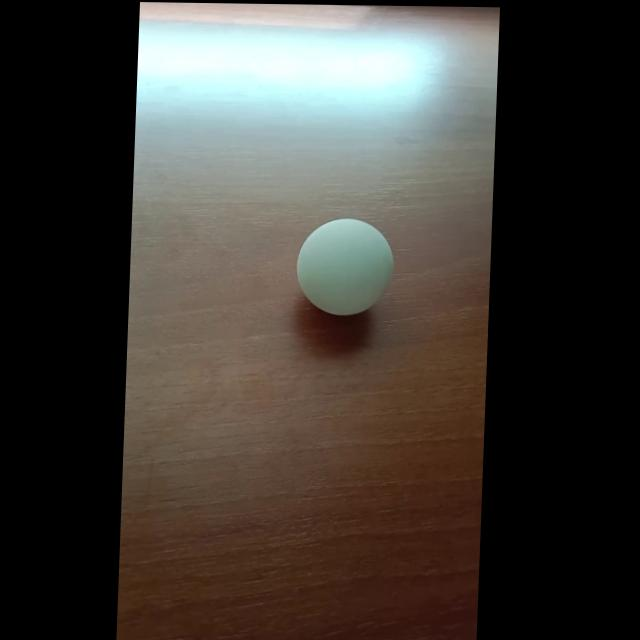white ball: (293, 217, 395, 317)
